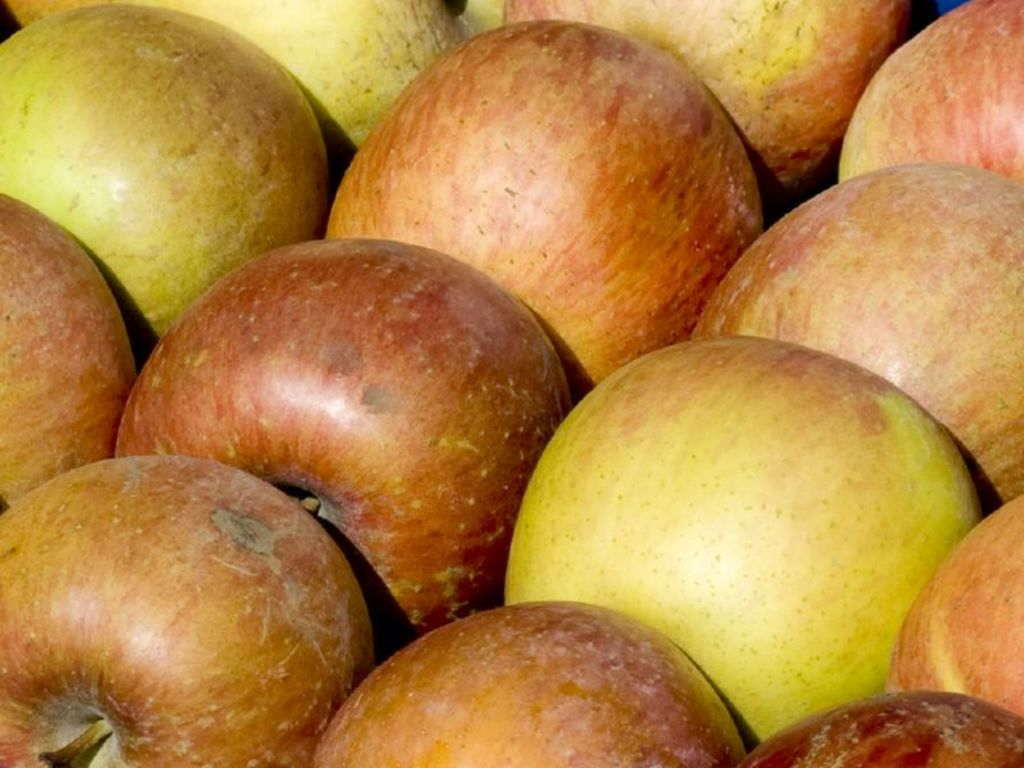Apple: (0, 0, 1022, 766), (505, 357, 983, 746)
